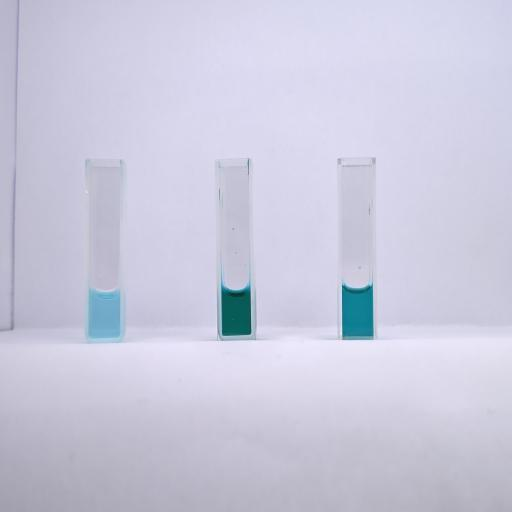cuvette: (212, 156, 258, 342), (82, 156, 127, 344), (336, 156, 380, 340)
liquid: (88, 286, 120, 338), (342, 284, 373, 336), (222, 285, 252, 335)
